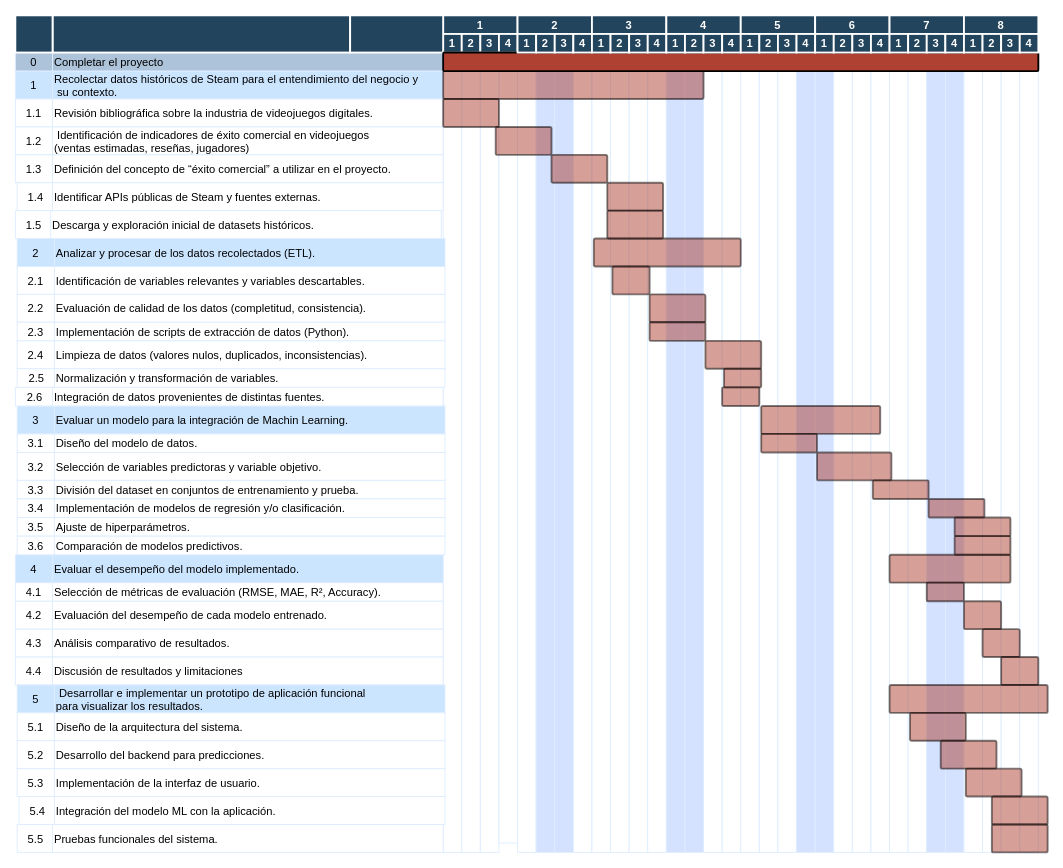
Image size: 1063x868. Some labels were removed from this diagram. Each missing label, with the box of its shape:
Mes Numero semana: (349, 14, 444, 53)
Objetivos: (51, 14, 351, 53)
